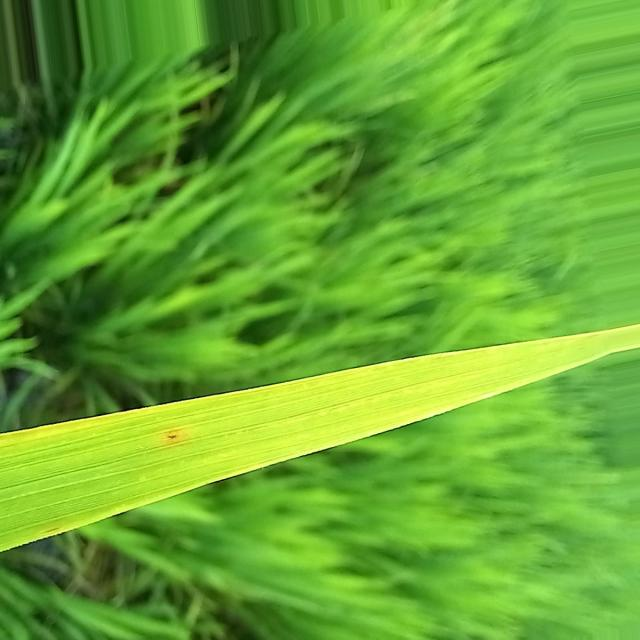Brown_Spot: (145, 417, 195, 462)
